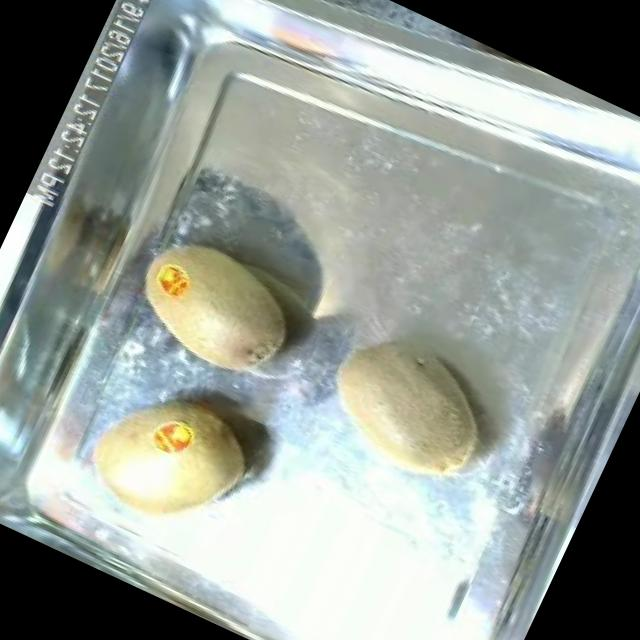Fruit: (297, 307, 520, 506), (62, 362, 272, 562), (110, 210, 322, 400)
